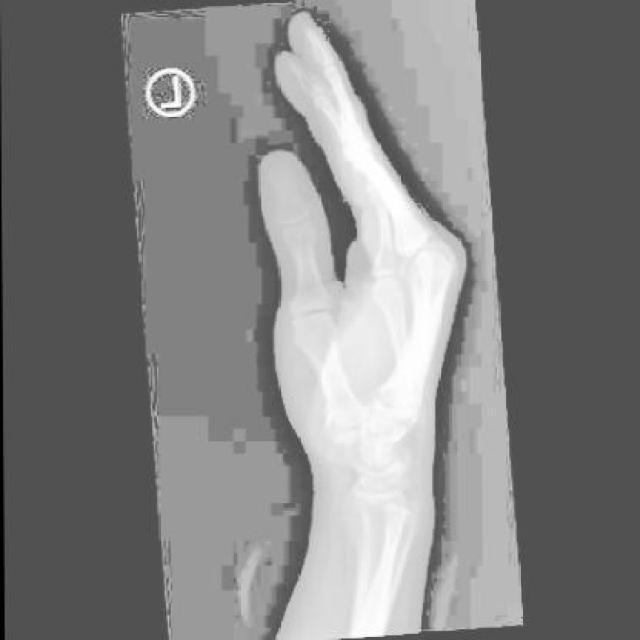Fracture: (396, 413, 430, 439)
